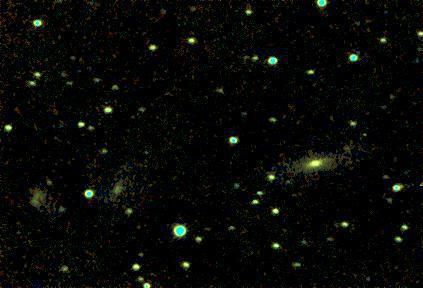star: (351, 121, 381, 151)
